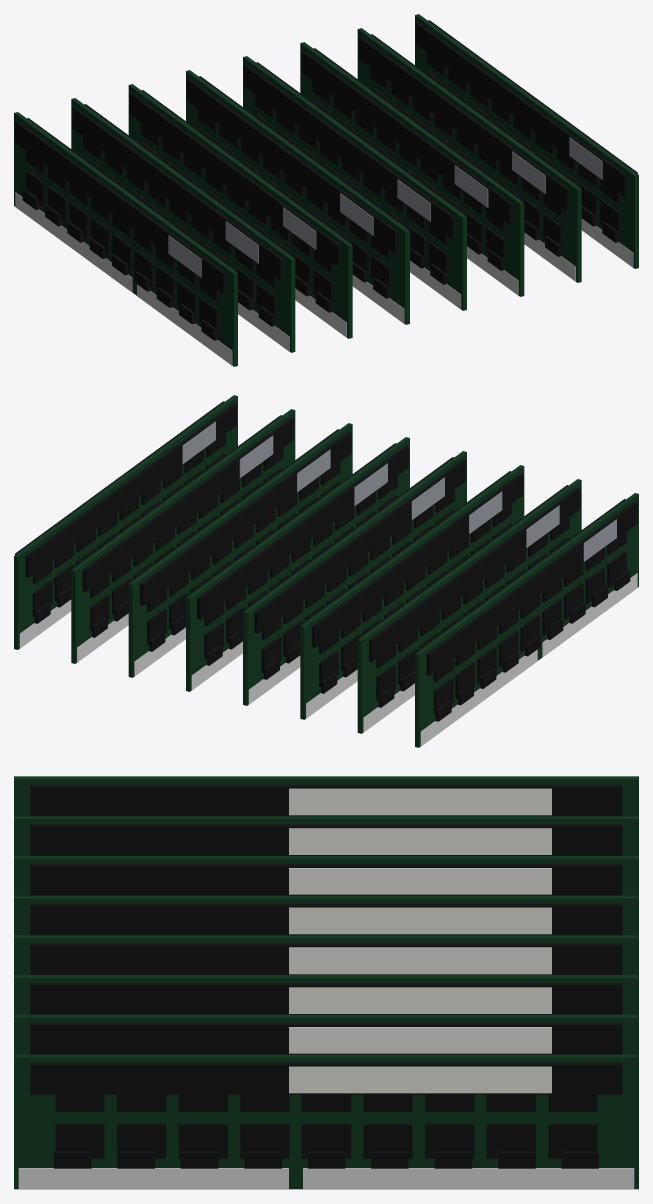
The model's file is hw_ram_ddr4_512gb.glb.
The picture shows the model from 3 angles, top to bottom: view 1: azimuth 30°, elevation 25°; view 2: azimuth 150°, elevation 25°; view 3: azimuth 270°, elevation 25°; orthographic projection. The views are drawn at different scales.
Visible parts, largest first — view 1: Stick_1, Stick_6, Stick_2, Stick_3, Stick_7, Body, Stick_4, Stick_5; view 2: Stick_1, Stick_6, Stick_2, Stick_3, Stick_7, Body, Stick_4, Stick_5; view 3: Body, Stick_1, Stick_4, Stick_7, Stick_2, Stick_3, Stick_5, Stick_6.
Boxes of the visible parts, box(x1,y1,x2,y2) form: Stick_1: box(14, 112, 237, 366); Stick_6: box(300, 42, 524, 296); Stick_2: box(71, 98, 295, 352); Stick_3: box(128, 84, 352, 338); Stick_7: box(357, 28, 581, 282); Body: box(415, 14, 638, 268); Stick_4: box(186, 70, 409, 324); Stick_5: box(243, 56, 466, 310); Stick_1: box(415, 493, 638, 747); Stick_6: box(128, 423, 352, 677); Stick_2: box(357, 479, 581, 733); Stick_3: box(300, 465, 524, 719); Stick_7: box(71, 409, 295, 663); Body: box(14, 395, 237, 649); Stick_4: box(243, 451, 466, 705); Stick_5: box(186, 437, 409, 691); Body: box(14, 1054, 638, 1189); Stick_1: box(14, 776, 638, 816); Stick_4: box(14, 895, 638, 935); Stick_7: box(14, 1014, 638, 1054); Stick_2: box(14, 816, 638, 855); Stick_3: box(14, 856, 638, 895); Stick_5: box(14, 935, 638, 974); Stick_6: box(14, 975, 638, 1014).
Size of the model in its own units: 0.1452 by 0.031 by 0.133.
